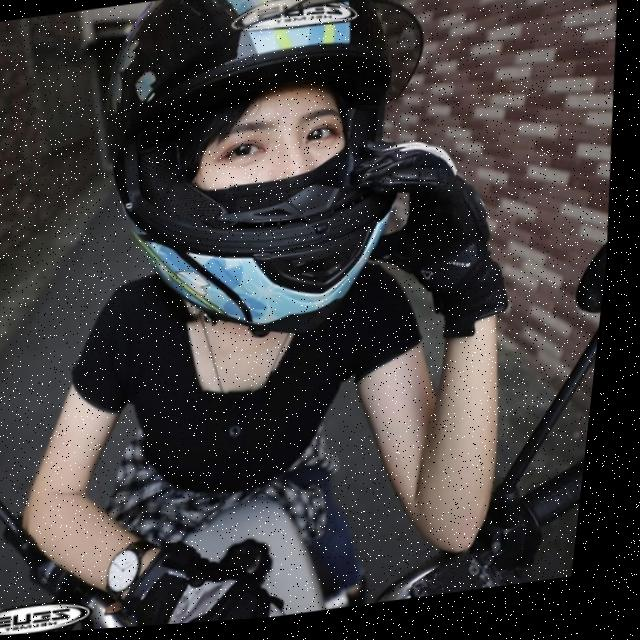helmet: (66, 0, 457, 368)
